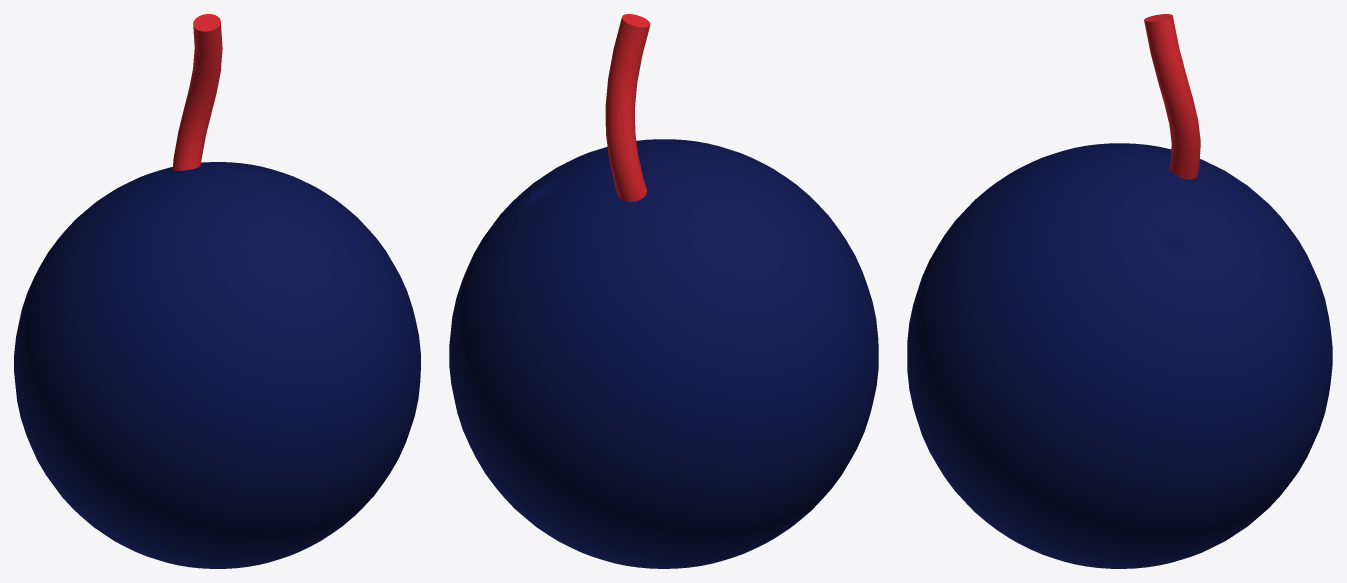
File: bomb.fbx
3 views of the same model, side by side, from view 1: azimuth 30°, elevation 25°; view 2: azimuth 150°, elevation 25°; view 3: azimuth 270°, elevation 25° (orthographic). The views are drawn at different scales.
Parts seen in each view (by area): view 1: Sphere, BezierCurve.001; view 2: Sphere, BezierCurve.001; view 3: Sphere, BezierCurve.001.
Part boxes in pixels (x1=…): Sphere: x1=14, y1=162, x2=420, y2=568; BezierCurve.001: x1=172, y1=14, x2=222, y2=170; Sphere: x1=449, y1=139, x2=878, y2=568; BezierCurve.001: x1=605, y1=14, x2=650, y2=201; Sphere: x1=907, y1=143, x2=1332, y2=568; BezierCurve.001: x1=1144, y1=14, x2=1200, y2=179.
Bounding box in the file's own units: 146 × 203 × 146.
